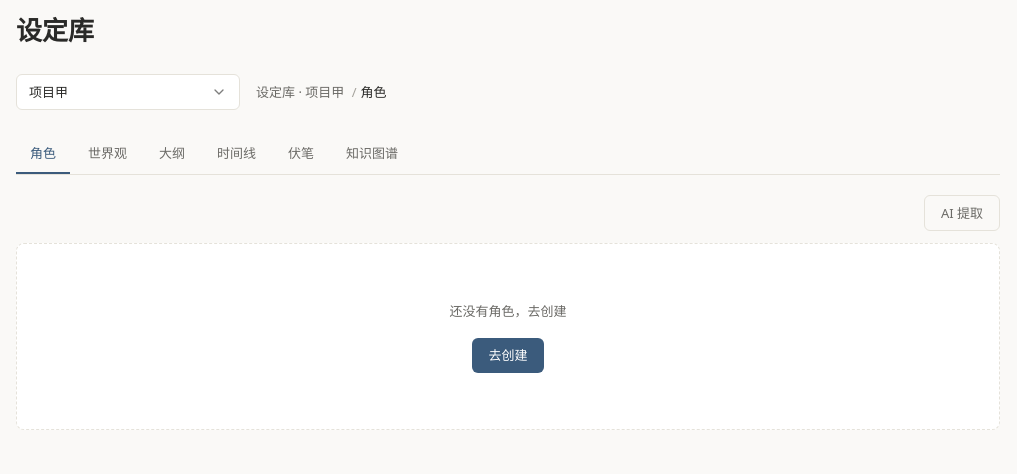
Scenario: 设定库页 — 世界观条目页四处（#1375） › ② 一键注册：点 ＋ → POST world-categories（默认 kind=abstract）→ chip 转正式样式（注记/＋ 消失）
This screenshot has width=1017, height=474.
What coordinates should you click on to do the following:
click the tab "世界观"
I would click on:
 (108, 154)
Its box is top-left (74, 134), bottom-right (141, 174).
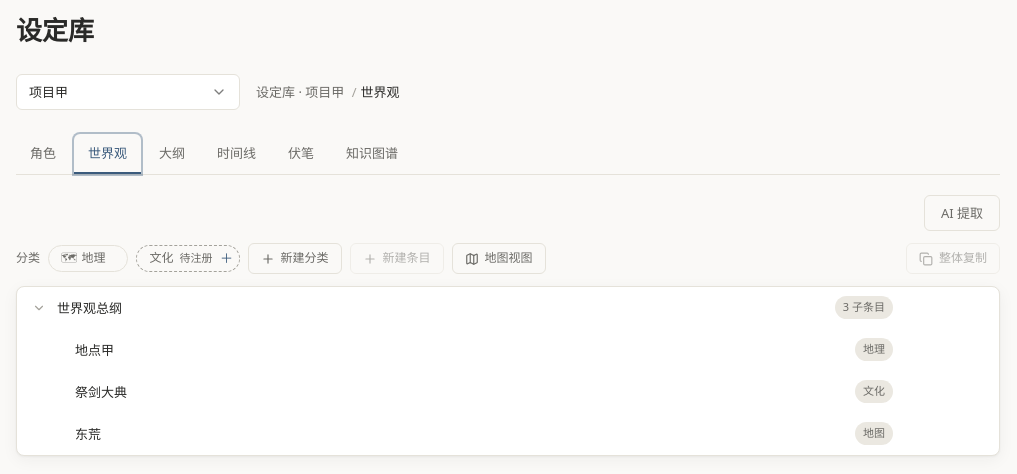
Result: the element with test id "library-list" is shown at top-left (16, 286), bottom-right (1000, 456)
What coordinates should you click on to do the following:
click the button with test id "world-cat-register-文化"
I would click on:
 (226, 259)
Its box is top-left (218, 251), bottom-right (234, 267).
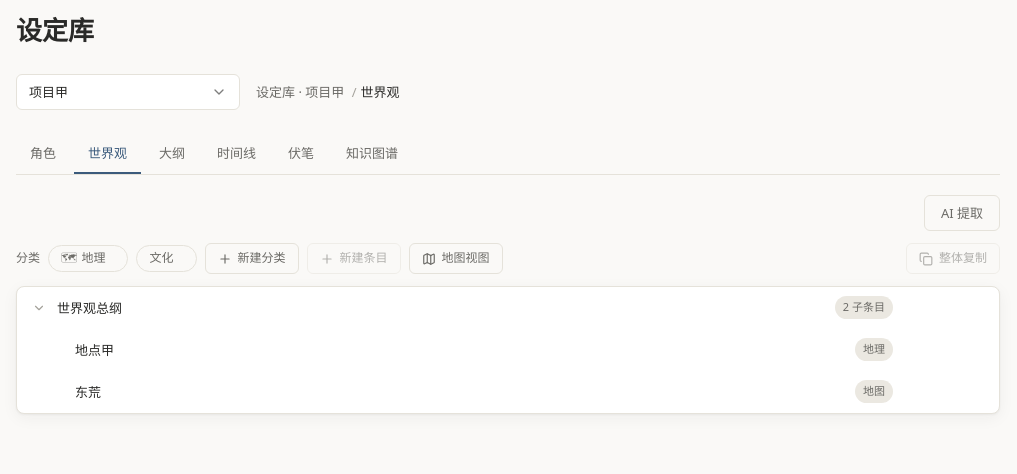
Result: the element with test id "world-cat-chip-文化" no longer shows "待注册" at top-left (136, 245), bottom-right (196, 272)
Result: the button with test id "world-cat-register-文化" is gone
